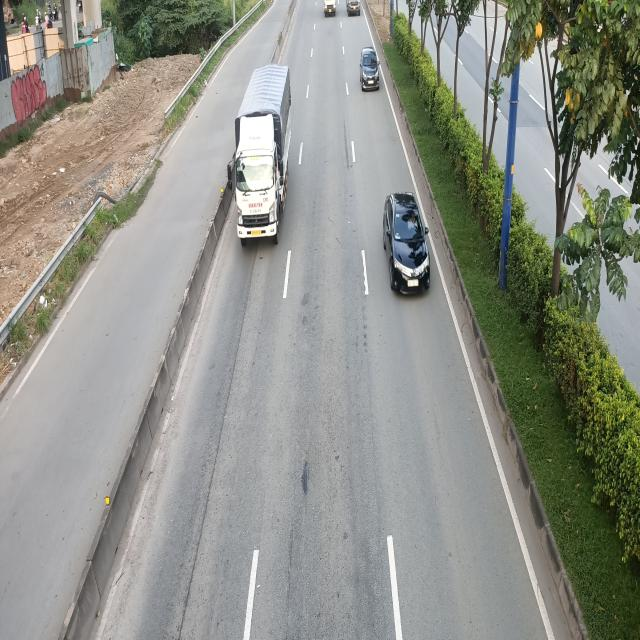car: (381, 193, 429, 298), (359, 47, 380, 91)
truck: (229, 63, 294, 244)
